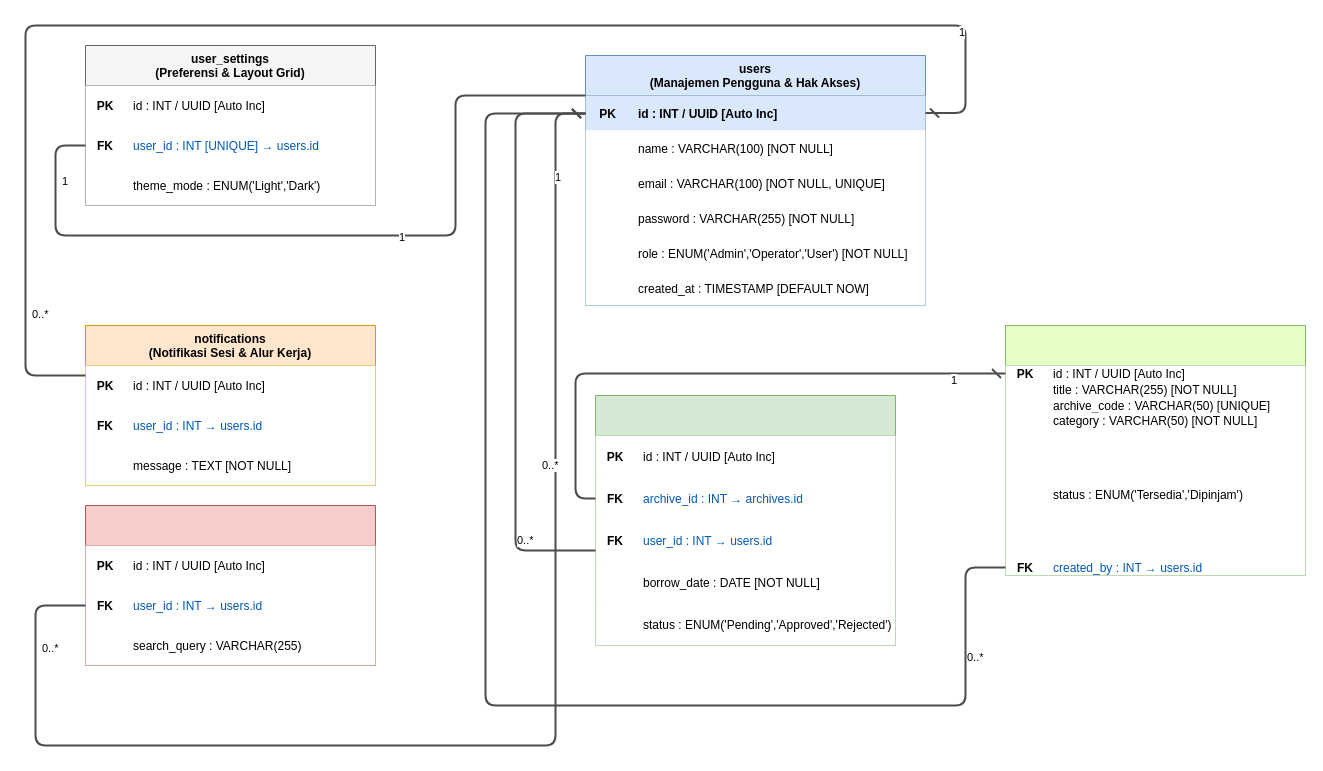
Some shapes in this 1323 by 771 pixel diagram are drawn without their labels. The box of each missing label's shape, as (x1, y1, x2, y2) in pixels:
borrowings (Sirkulasi & Pelacakan Peminjaman): (594, 394, 896, 646)
recent_searches (Histori Pencarian Pengguna): (84, 504, 376, 666)
